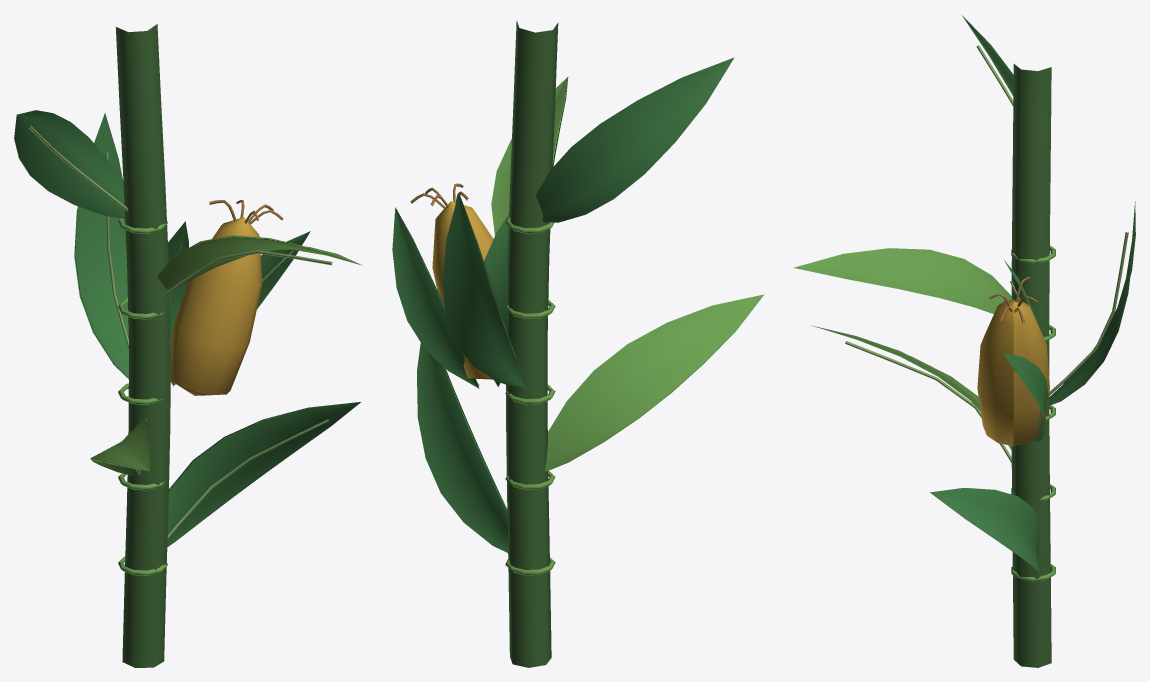
The model's file is maiz_2.glb.
The picture shows the model from 3 angles, left to right: view 1: azimuth 30°, elevation 25°; view 2: azimuth 150°, elevation 25°; view 3: azimuth 270°, elevation 25°; orthographic projection. The views are drawn at different scales.
Visible parts, largest first — view 1: maiz_2_caña_0; view 2: maiz_2_caña_0; view 3: maiz_2_caña_0.
Boxes of the visible parts, left/top/right/bottom form: maiz_2_caña_0: left=14, top=24, right=362, bottom=667; maiz_2_caña_0: left=392, top=20, right=764, bottom=667; maiz_2_caña_0: left=793, top=15, right=1135, bottom=667.
Bounding box in the file's own units: 0.4413 × 0.8214 × 0.4297.
